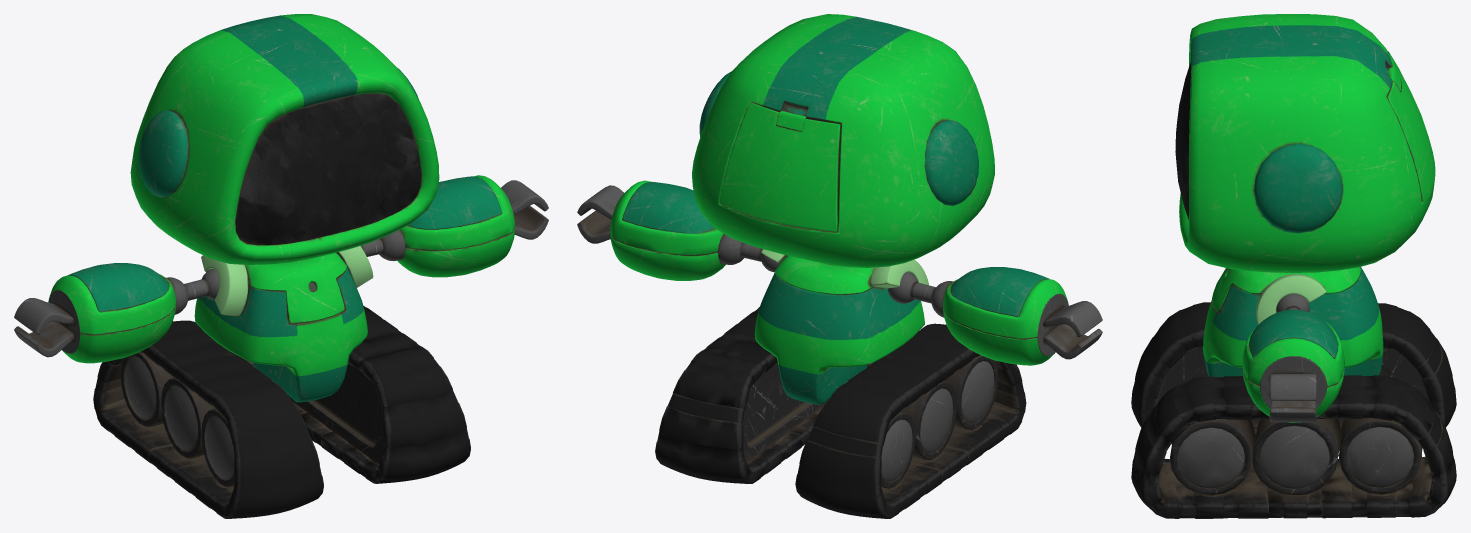
The model's file is Boogie Bot.fbx.
3 renders of one model, left to right at view 1: azimuth 30°, elevation 25°; view 2: azimuth 150°, elevation 25°; view 3: azimuth 270°, elevation 25°, orthographic. The views are drawn at different scales.
Visible parts, largest first — view 1: robot_toy_head.001, robot_toy_leg.002, robot_toy_chest.001, robot_toy_leg.003, robot_toy_arm.002, robot_toy_arm.003; view 2: robot_toy_head.001, robot_toy_leg.002, robot_toy_chest.001, robot_toy_leg.003, robot_toy_arm.002, robot_toy_arm.003; view 3: robot_toy_head.001, robot_toy_leg.003, robot_toy_chest.001, robot_toy_leg.002, robot_toy_arm.003.
Boxes of the visible parts, bbox=[...] form: robot_toy_head.001: bbox=[130, 14, 439, 264]; robot_toy_leg.002: bbox=[93, 320, 323, 518]; robot_toy_chest.001: bbox=[194, 246, 373, 402]; robot_toy_leg.003: bbox=[288, 305, 470, 483]; robot_toy_arm.002: bbox=[14, 263, 219, 363]; robot_toy_arm.003: bbox=[361, 175, 548, 277]; robot_toy_head.001: bbox=[692, 14, 994, 267]; robot_toy_leg.002: bbox=[795, 323, 1026, 518]; robot_toy_chest.001: bbox=[754, 249, 928, 404]; robot_toy_leg.003: bbox=[655, 307, 828, 483]; robot_toy_arm.002: bbox=[887, 267, 1102, 365]; robot_toy_arm.003: bbox=[577, 180, 779, 280]; robot_toy_head.001: bbox=[1175, 14, 1435, 272]; robot_toy_leg.003: bbox=[1131, 375, 1456, 518]; robot_toy_chest.001: bbox=[1203, 267, 1383, 376]; robot_toy_leg.002: bbox=[1131, 302, 1456, 444]; robot_toy_arm.003: bbox=[1242, 294, 1344, 422].
Bounding box in the file's own units: 34.5 × 26.17 × 18.28.
